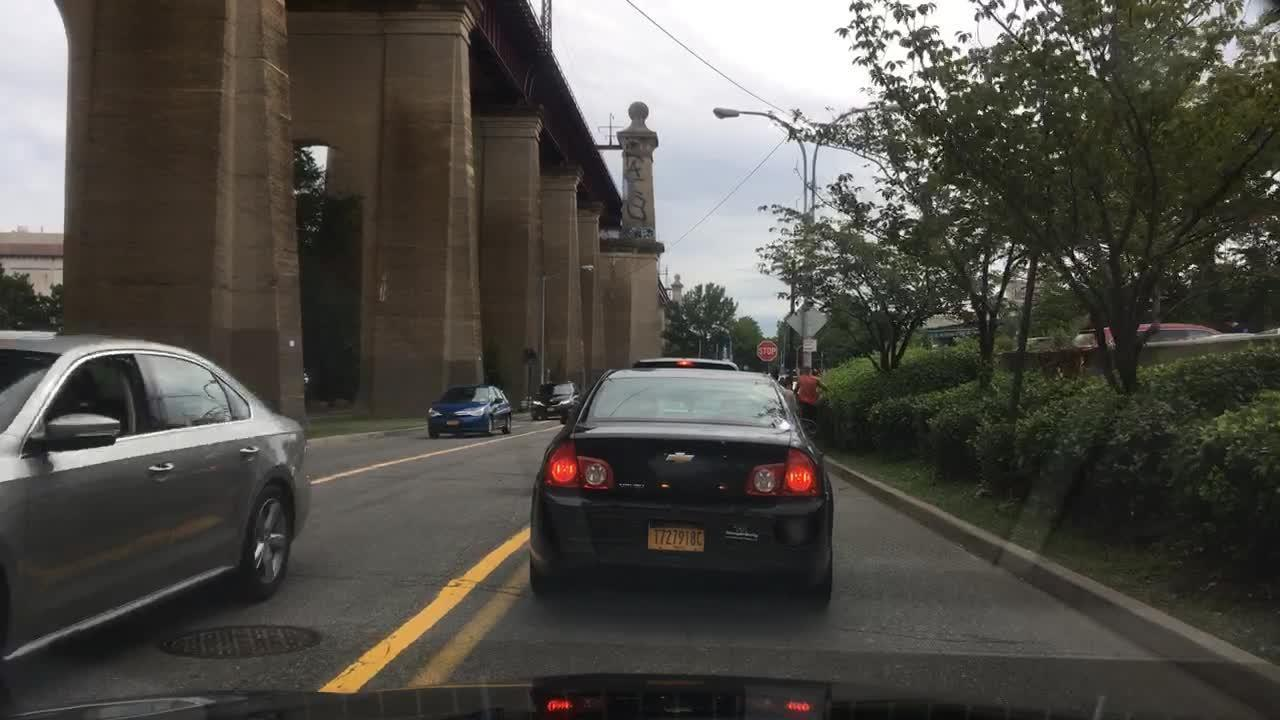chevrolet: (661, 445, 705, 472)
